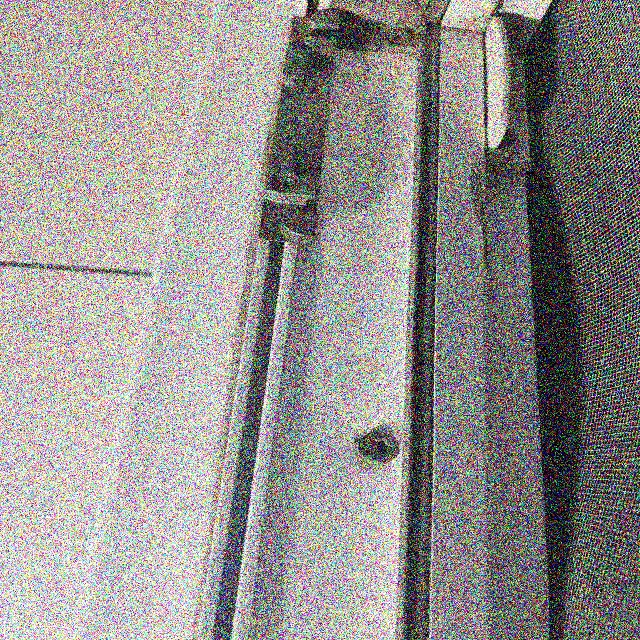phillips: (272, 177, 300, 192), (338, 29, 361, 44), (387, 30, 410, 45), (293, 40, 317, 52)
torx: (358, 432, 401, 464)
